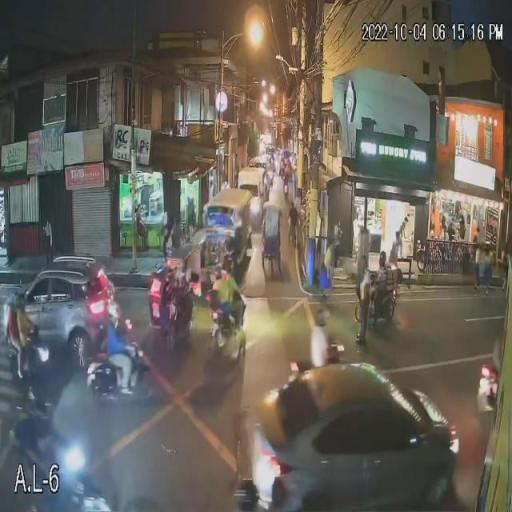helmet: (107, 298, 122, 320), (222, 254, 234, 270), (15, 294, 26, 310), (213, 264, 224, 279), (7, 292, 16, 310)
motorcycle: (87, 352, 149, 397), (6, 339, 52, 387), (212, 304, 246, 346)
rider: (105, 320, 136, 396), (16, 310, 37, 399), (6, 312, 24, 379), (212, 279, 236, 325), (226, 273, 244, 325)
